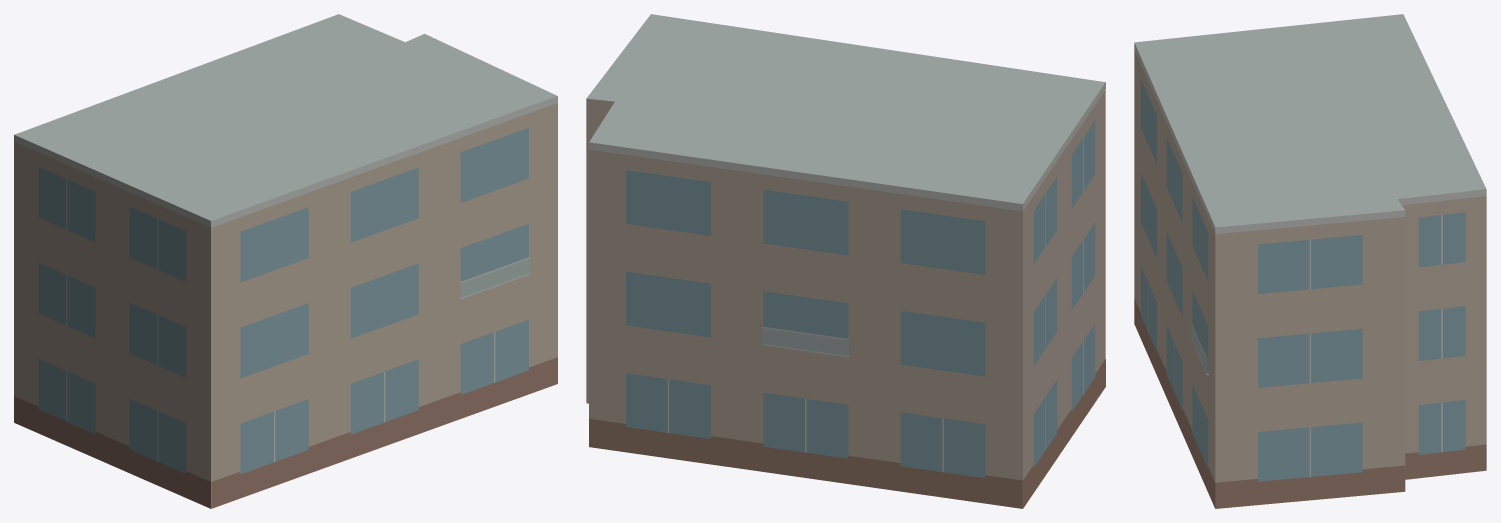
File: survey-upis-32815448.glb
3 views of the same model, side by side, from view 1: azimuth 30°, elevation 25°; view 2: azimuth 150°, elevation 25°; view 3: azimuth 270°, elevation 25° (orthographic). The views are drawn at different scales.
Visible parts, largest first — view 1: survey-upis-32815448.tmp; view 2: survey-upis-32815448.tmp; view 3: survey-upis-32815448.tmp.
Part boxes in pixels (x1,y1,x2,y2): survey-upis-32815448.tmp: (14,14,557,508); survey-upis-32815448.tmp: (586,14,1105,508); survey-upis-32815448.tmp: (1134,14,1486,508).
Size of the model in its own units: 16.67 by 10.24 by 11.63.
